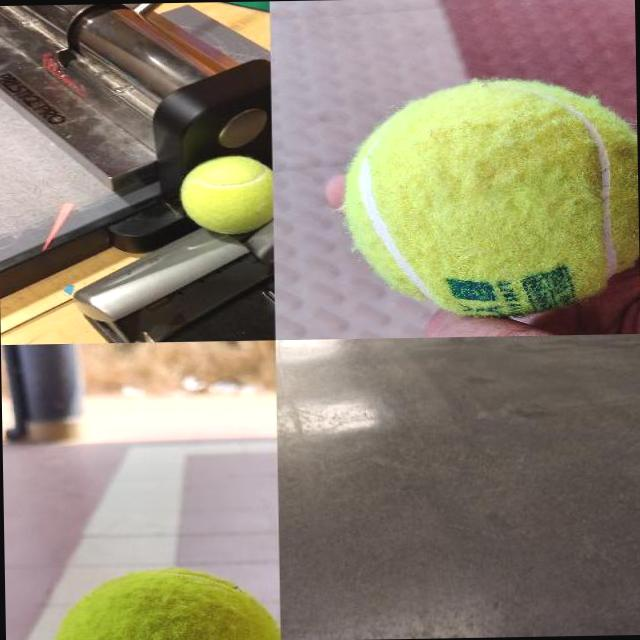tennis-ball: (340, 76, 638, 322), (48, 566, 279, 640), (176, 152, 272, 238)
